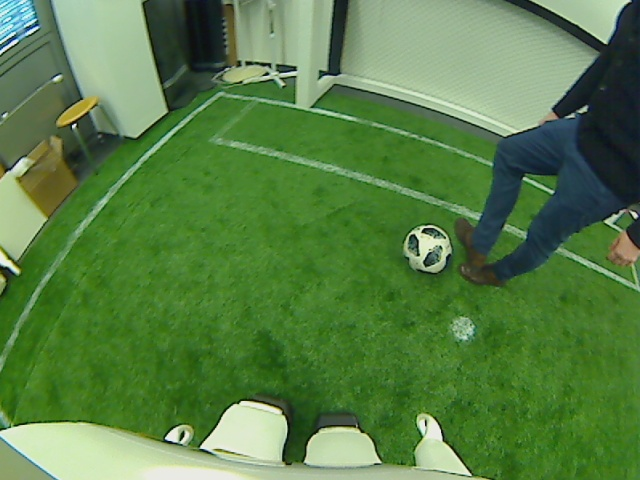ball: (402, 222, 454, 273)
